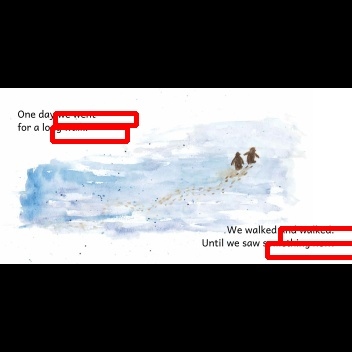latin: (200, 236, 335, 250), (224, 220, 336, 236), (15, 120, 90, 134), (15, 107, 96, 119)
